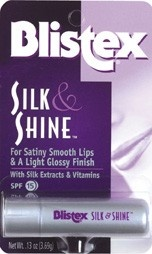grozi_62: (0, 0, 152, 253)
